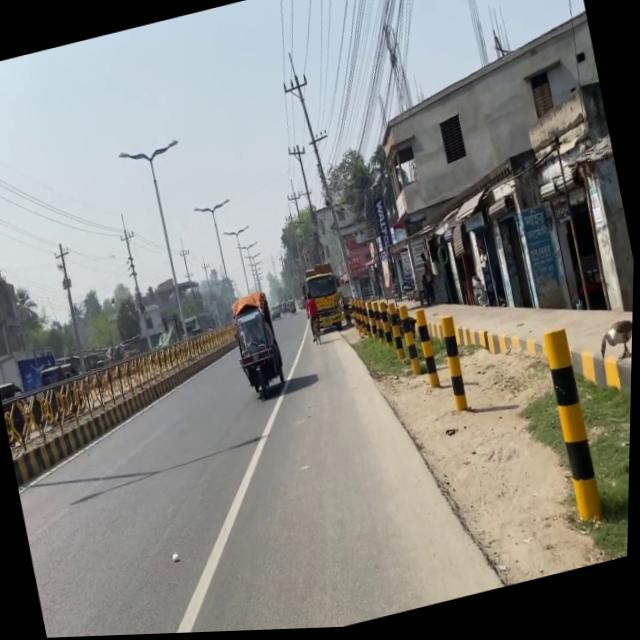Animal: (595, 320, 634, 367)
Bench: (351, 252, 610, 567)
Construction-barrier: (331, 300, 513, 620)
Fallen-tree: (308, 314, 326, 348)
Garbage: (225, 289, 292, 406)
Garbage-bin: (301, 292, 326, 347)
Pole: (3, 316, 260, 526)
Pothole: (408, 239, 635, 597)
Traffic-cone: (297, 261, 351, 341)
